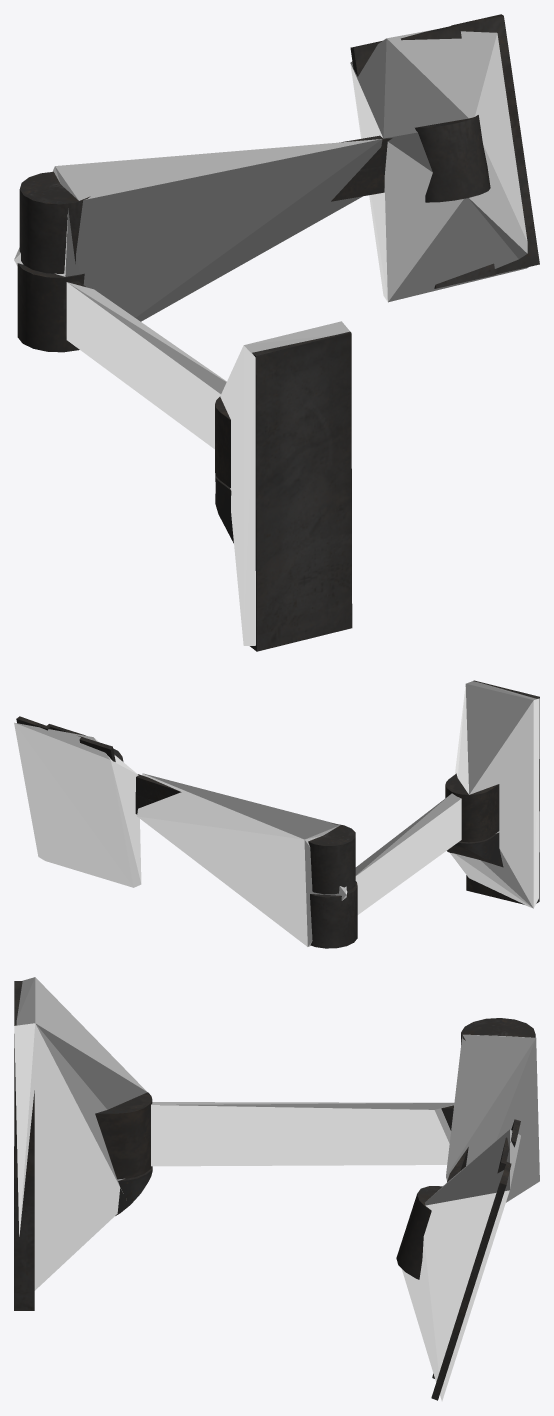
File: SM_Monitor_Holder_01.fbx
3 views of the same model, one above another, from view 1: azimuth 30°, elevation 25°; view 2: azimuth 150°, elevation 25°; view 3: azimuth 270°, elevation 25° (orthographic). The views are drawn at different scales.
Parts seen in each view (by area): view 1: SM_Monitor_Holder_01_ConvexHulls, SM_Monitor_Holder_01_LOD0; view 2: SM_Monitor_Holder_01_ConvexHulls, SM_Monitor_Holder_01_LOD0; view 3: SM_Monitor_Holder_01_ConvexHulls, SM_Monitor_Holder_01_LOD0.
Part boxes in pixels (<box>): SM_Monitor_Holder_01_ConvexHulls: <box>14,29,528,645</box>; SM_Monitor_Holder_01_LOD0: <box>17,14,539,651</box>; SM_Monitor_Holder_01_ConvexHulls: <box>14,681,539,946</box>; SM_Monitor_Holder_01_LOD0: <box>16,680,539,948</box>; SM_Monitor_Holder_01_ConvexHulls: <box>14,977,539,1401</box>; SM_Monitor_Holder_01_LOD0: <box>14,981,535,1400</box>.
Size of the model in its own units: 59.03 by 55.33 by 37.24.
